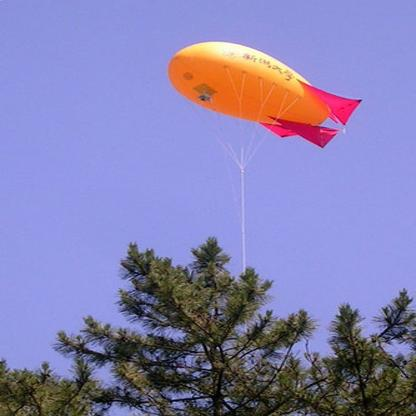Airship: (166, 38, 367, 161)
